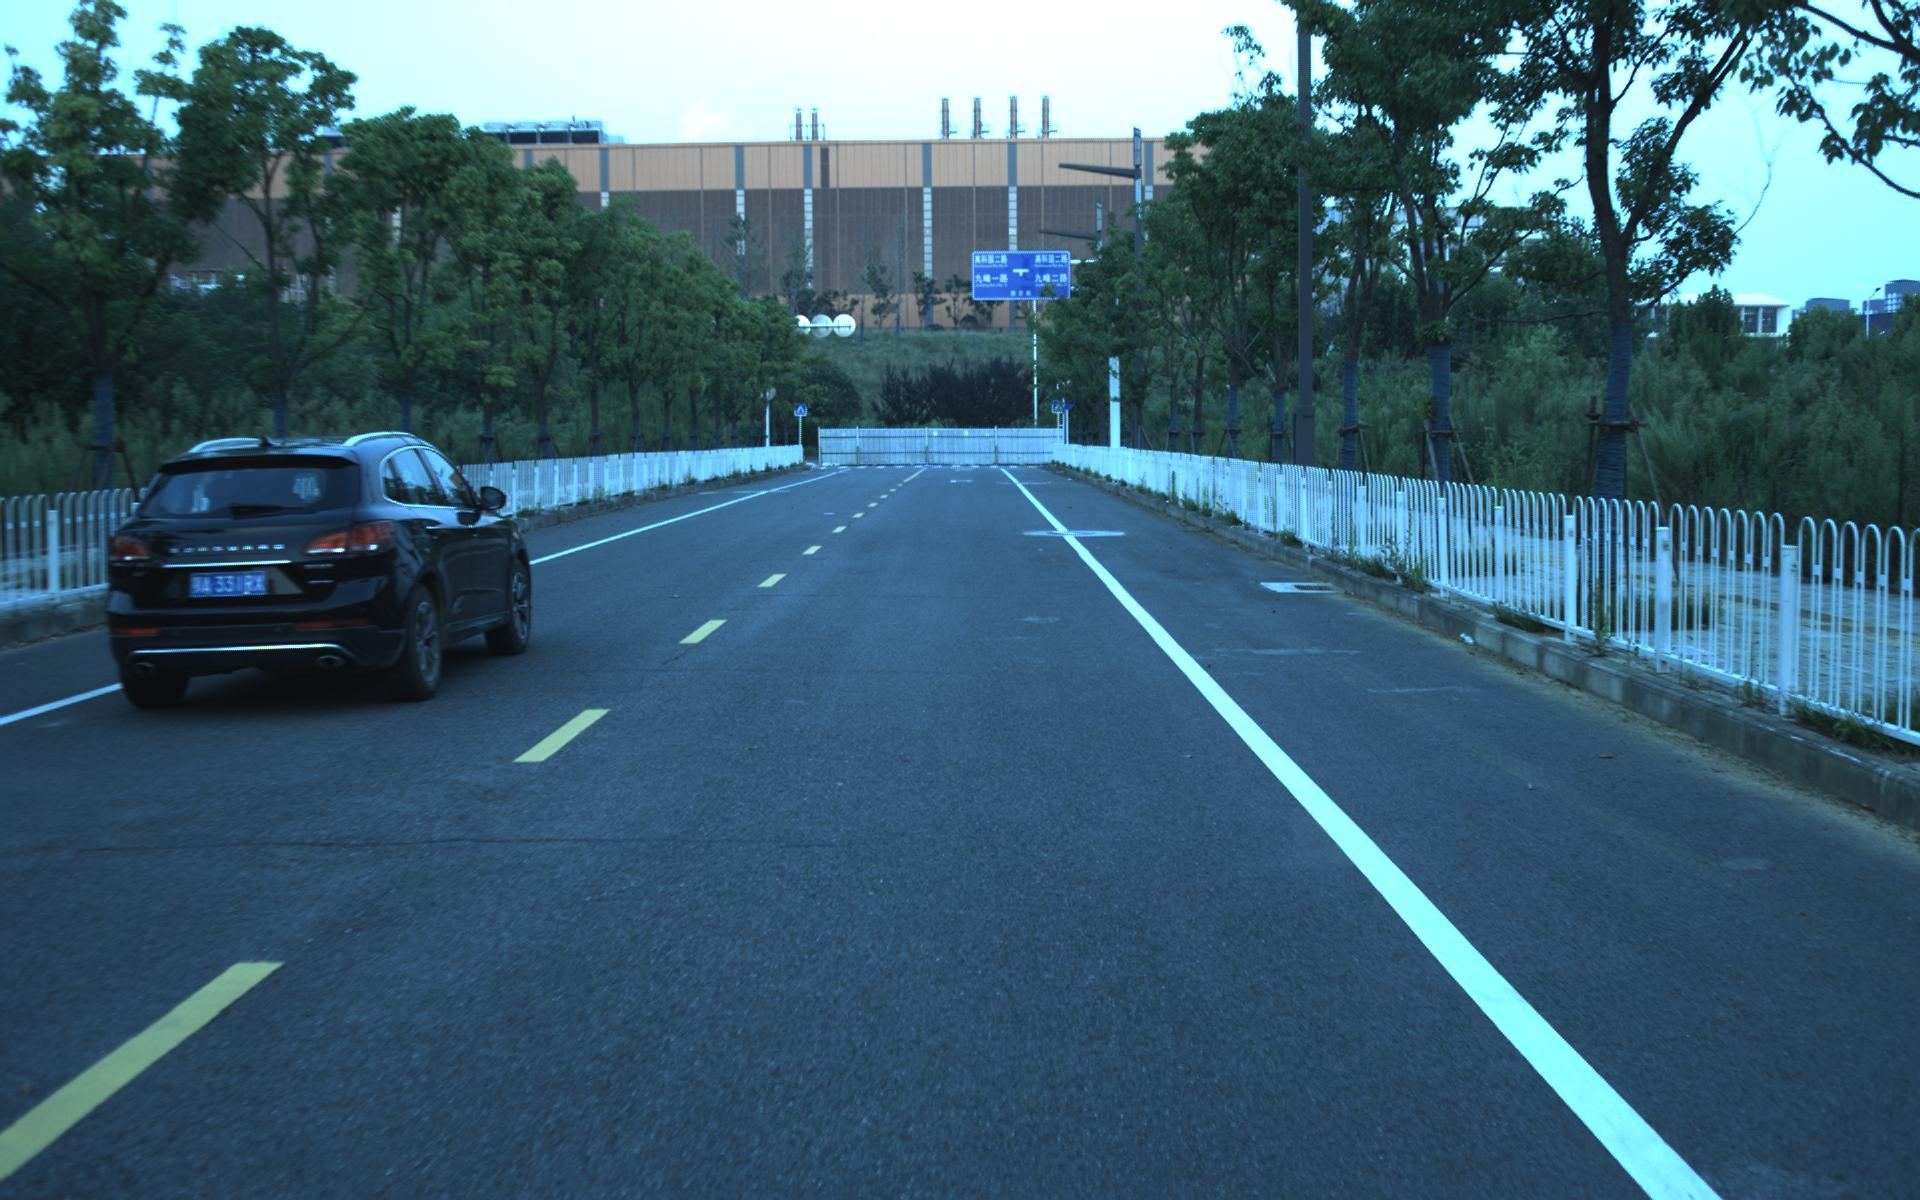Car: (83, 422, 540, 716)
